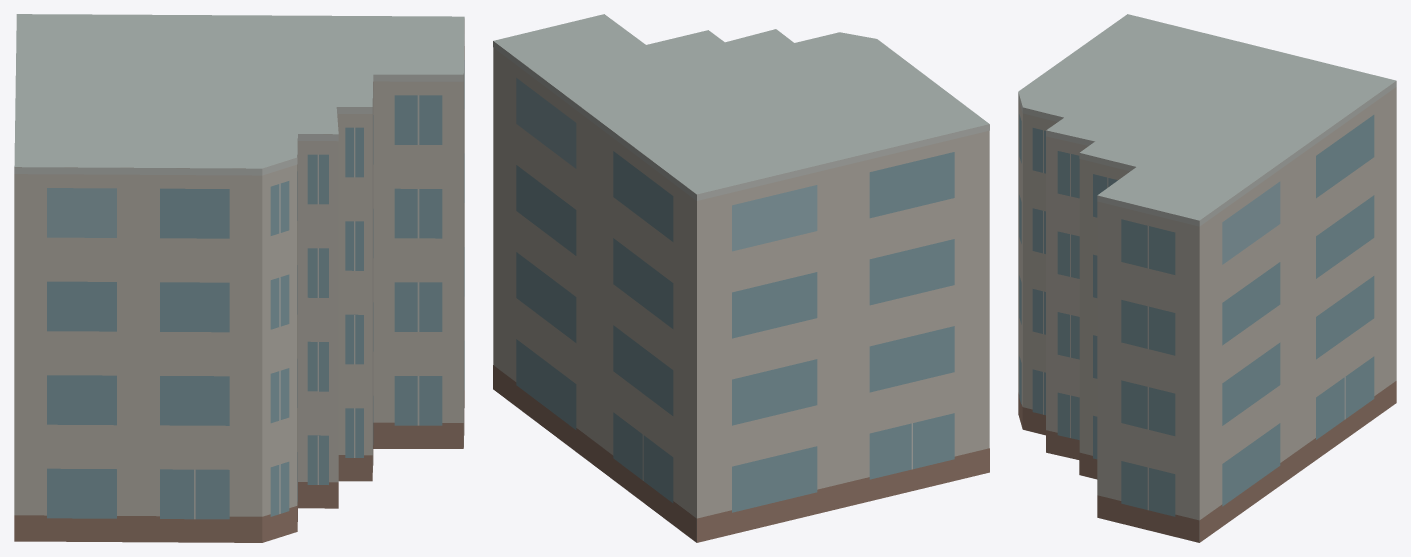
File: survey-upis-33021186.glb
The picture shows the model from 3 angles, left to right: view 1: azimuth 30°, elevation 25°; view 2: azimuth 150°, elevation 25°; view 3: azimuth 270°, elevation 25°; orthographic projection. The views are drawn at different scales.
Parts seen in each view (by area): view 1: survey-upis-33021186.tmp; view 2: survey-upis-33021186.tmp; view 3: survey-upis-33021186.tmp.
Boxes of the visible parts, x1,y1,x2,y2 form: survey-upis-33021186.tmp: (14,14,464,542); survey-upis-33021186.tmp: (493,14,989,542); survey-upis-33021186.tmp: (1018,14,1396,542).
Size of the model in its own units: 17.95 by 13.05 by 13.9.
